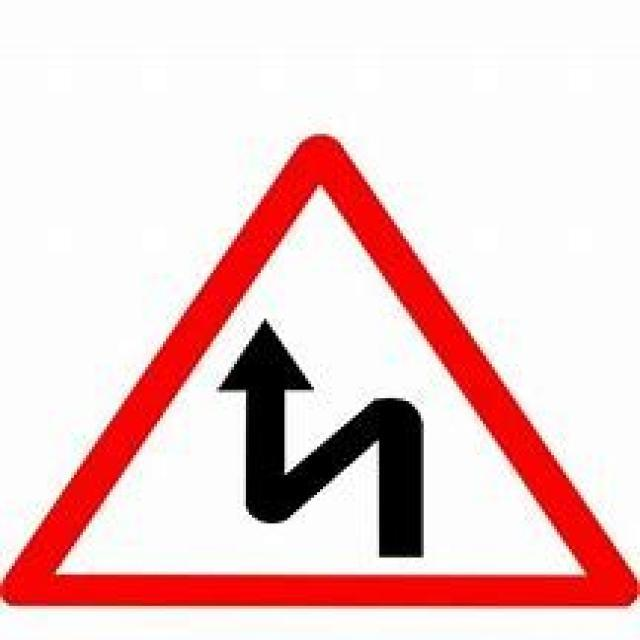left reverse bend: (29, 134, 617, 608)
